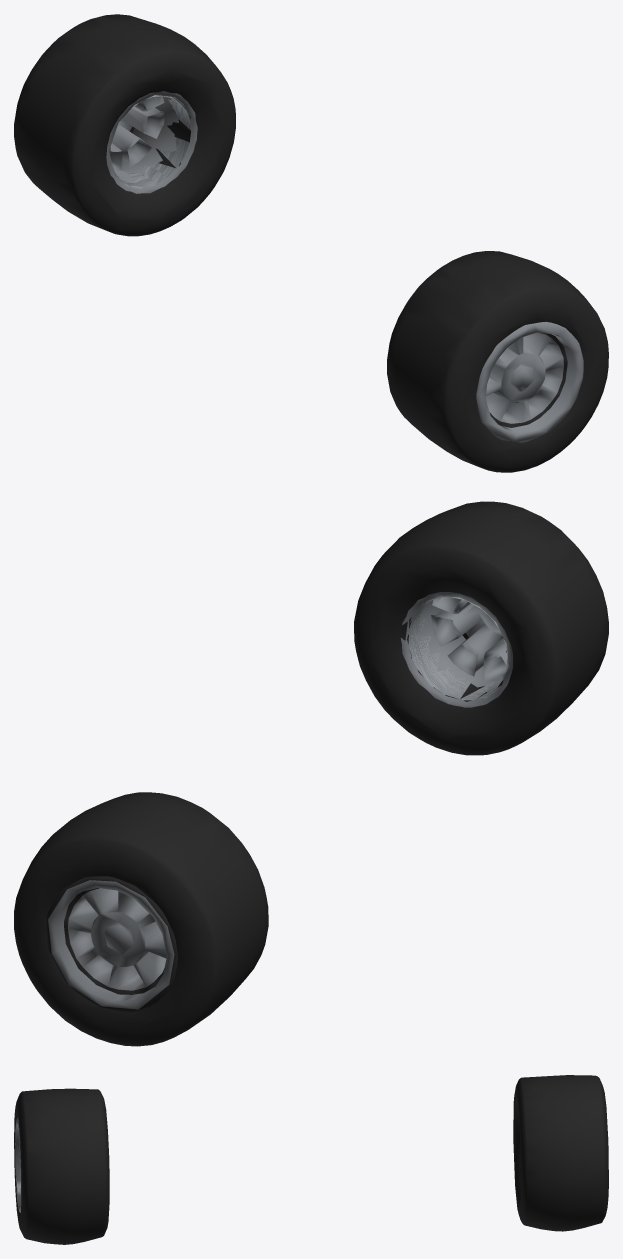
File: static_car_front_wheels.obj
The picture shows the model from 3 angles, top to bottom: view 1: azimuth 30°, elevation 25°; view 2: azimuth 150°, elevation 25°; view 3: azimuth 270°, elevation 25°; orthographic projection. The views are drawn at different scales.
Visible parts, largest first — view 1: front_wheels.001_Rim_inner.001_Circle.002; view 2: front_wheels.001_Rim_inner.001_Circle.002; view 3: front_wheels.001_Rim_inner.001_Circle.002.
Part boxes in pixels (x1,y1,x2,y2): front_wheels.001_Rim_inner.001_Circle.002: (14, 14, 608, 472); front_wheels.001_Rim_inner.001_Circle.002: (14, 501, 608, 1046); front_wheels.001_Rim_inner.001_Circle.002: (14, 1075, 608, 1244).
Size of the model in its own units: 0.5149 by 0.4241 by 1.62.
Materials: 1 (1 with a texture image).
